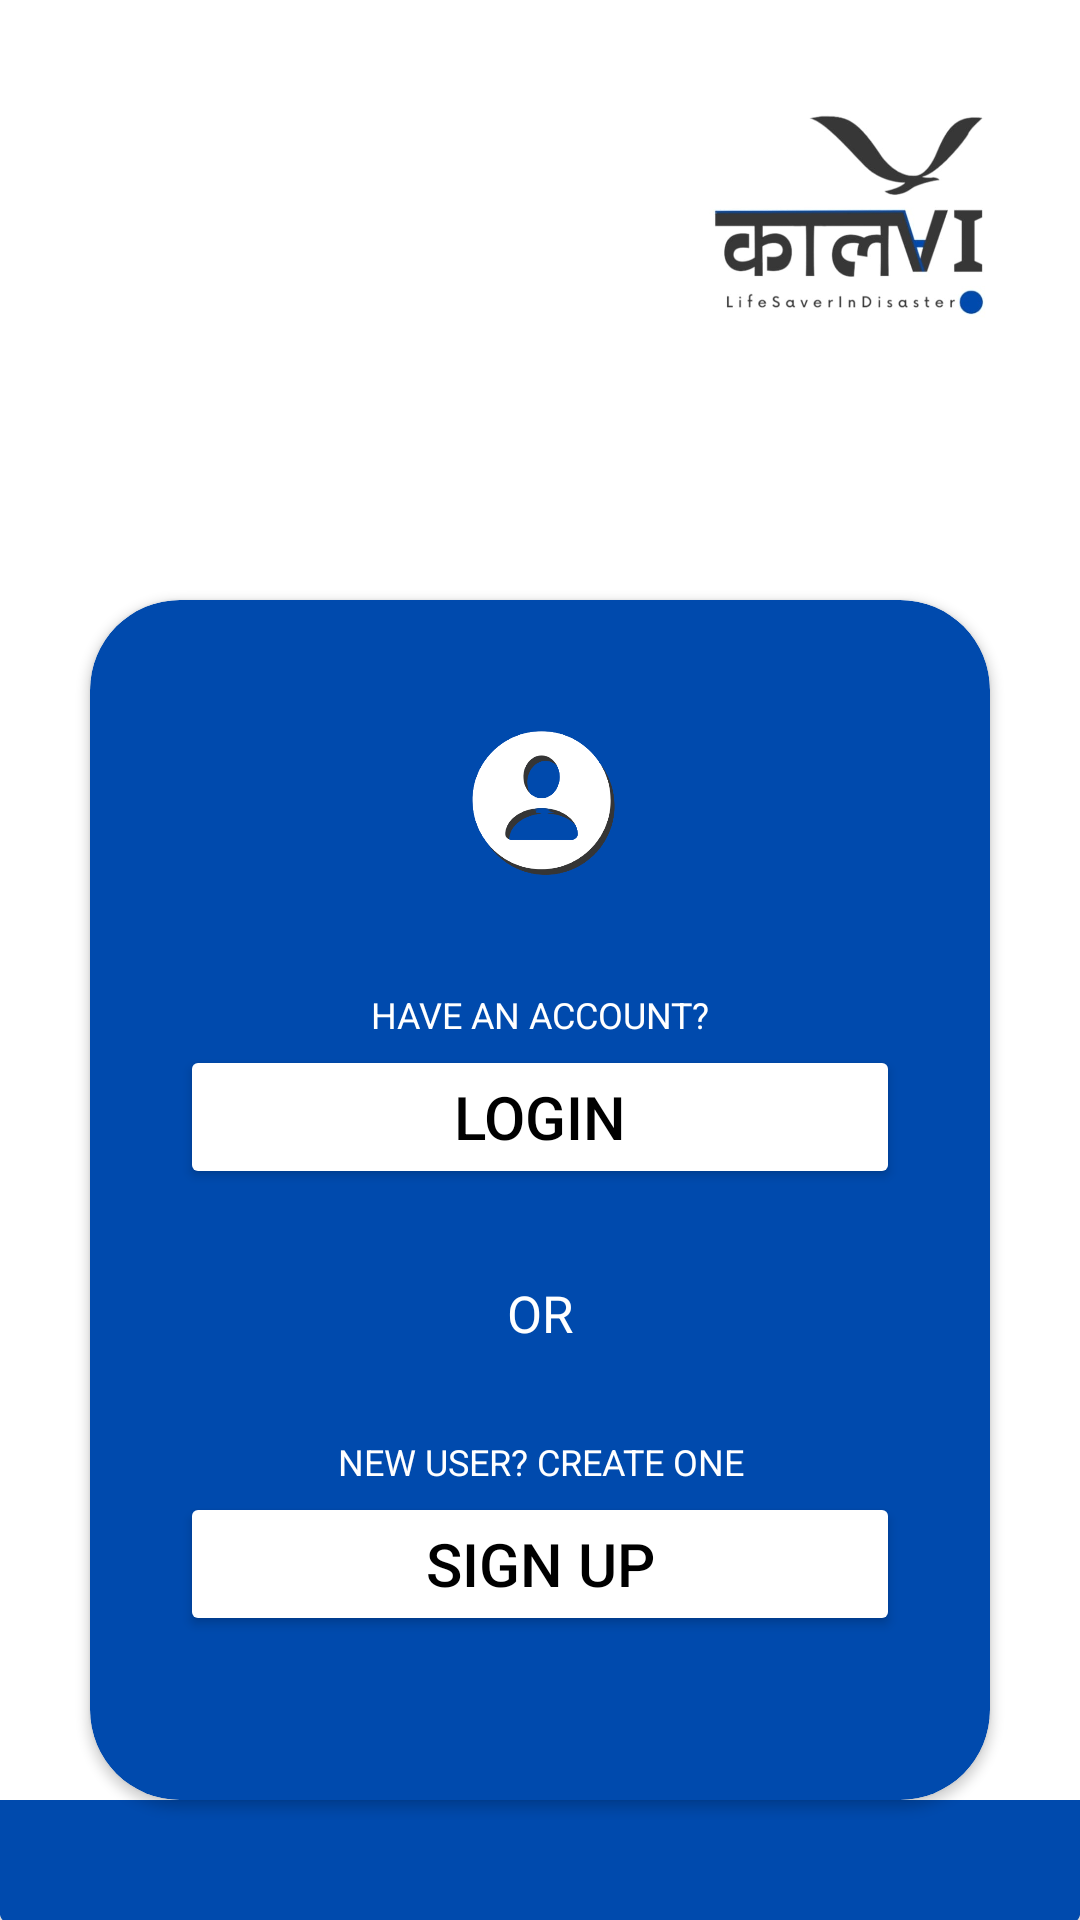

Where to tap for icons on this 1080px x 1920px app screen, as point (x, y):
kaalvi user: point (543, 803)
